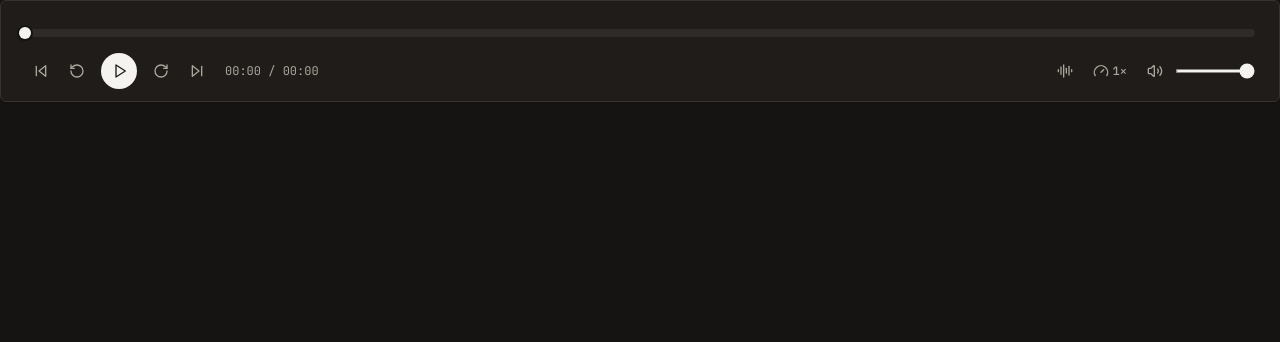
Scenario: AudioPlayer transport › offers the full range of speeds
This screenshot has width=1280, height=342.
Click the button named "Playback speed".
click(1110, 71)  # box left=1085, top=55, right=1135, bottom=87
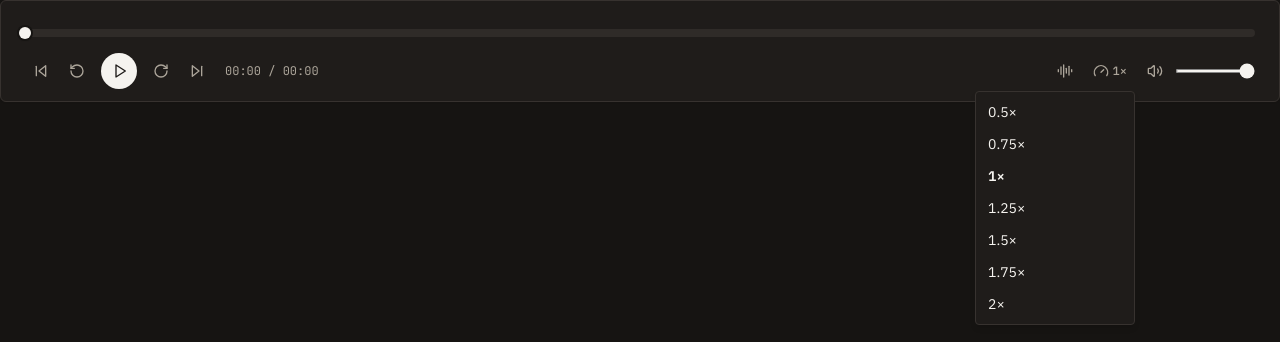
expect the menu item "0.5×" is shown: met, box left=988, top=103, right=1017, bottom=121
expect the menu item "0.75×" is shown: met, box left=988, top=135, right=1025, bottom=153
expect the menu item "1×" is shown: met, box left=988, top=167, right=1005, bottom=185
